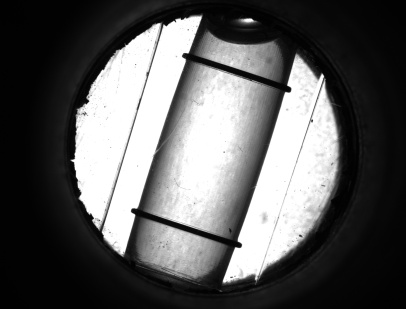line: (199, 52, 276, 91), (148, 209, 222, 245)
